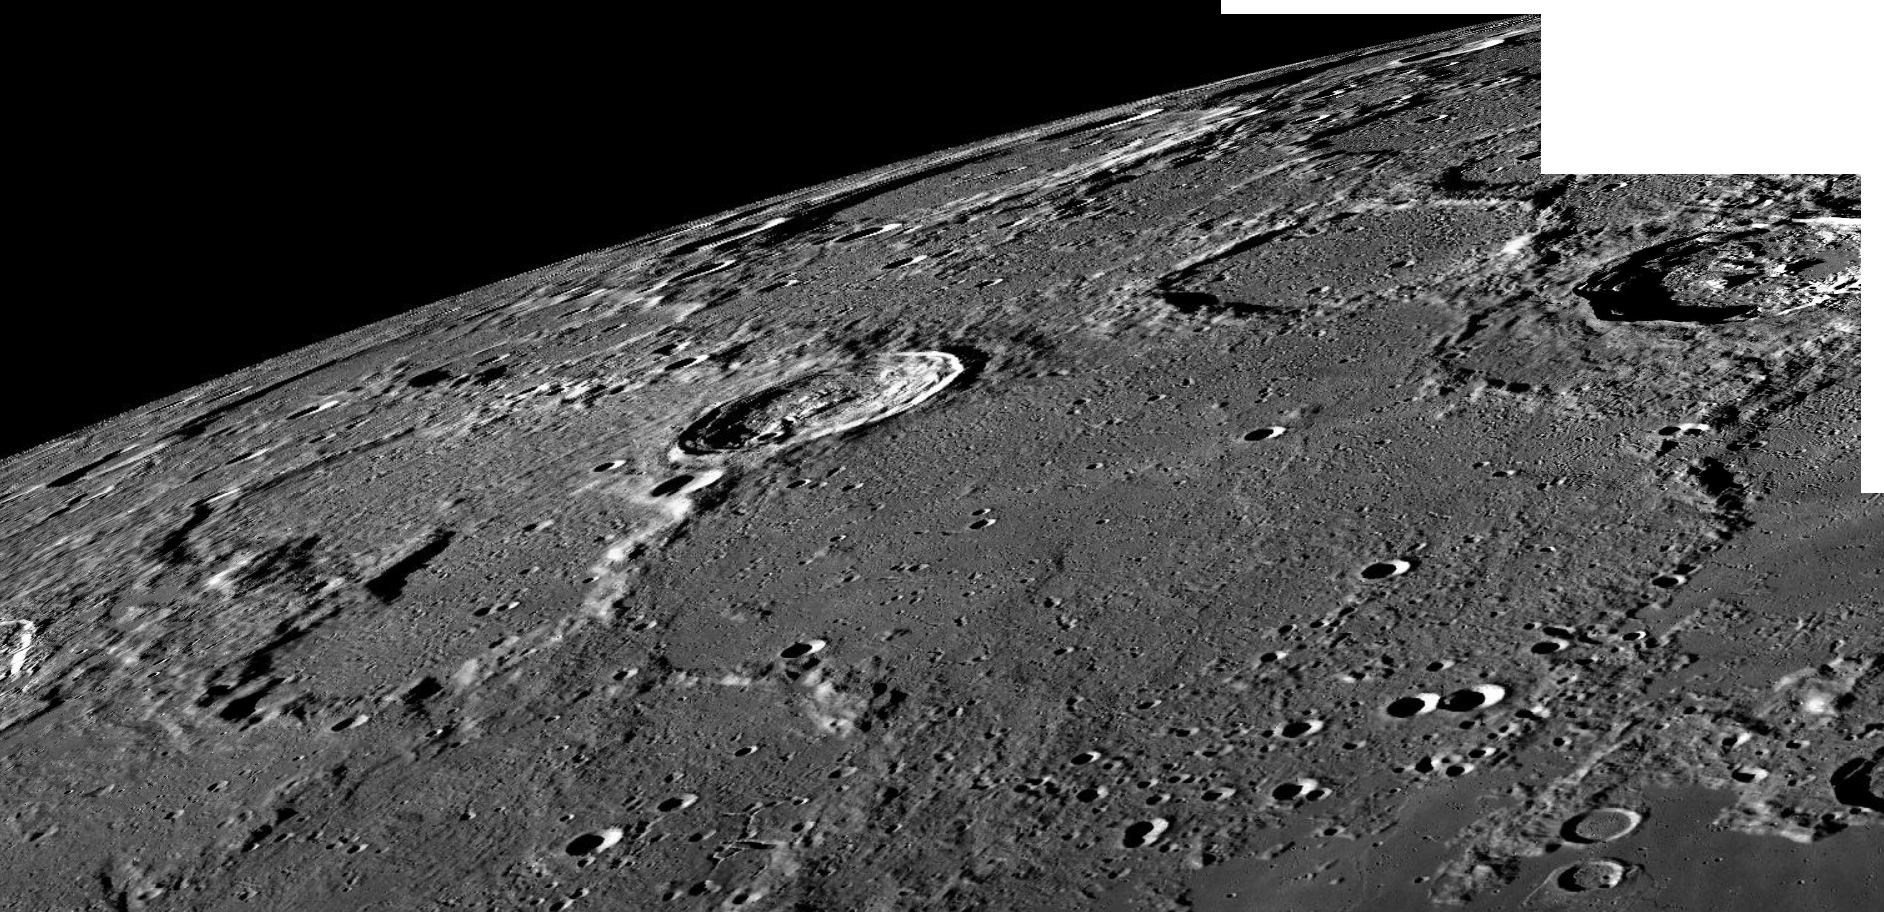crater: (1057, 135, 1545, 335), (640, 328, 1025, 552), (1568, 199, 1862, 376), (1325, 518, 1451, 613), (529, 789, 628, 872), (1536, 793, 1661, 851), (1209, 418, 1295, 455)
